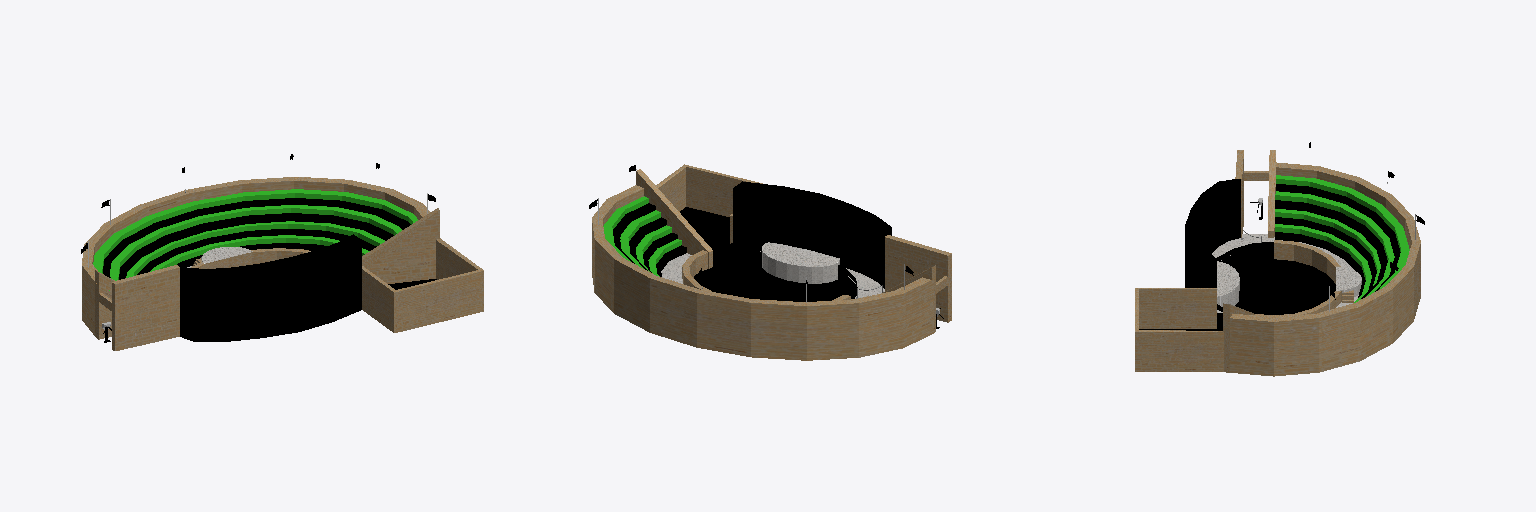
3 renders of one model, left to right at view 1: azimuth 30°, elevation 25°; view 2: azimuth 150°, elevation 25°; view 3: azimuth 270°, elevation 25°, orthographic.
Visible parts, largest first — view 1: pPipe2, pasted__pasted__pasted__pasted__pasted__pasted__pPipe1 pasted__p, pasted__pasted__pasted__pPipe1 pasted__pasted__group1 pasted__gr, group8 pasted__pasted__pasted__pasted__pPipe1 pasted__pasted__pa, pasted__pasted__pasted__pCube2 pasted__pasted__group9 pasted__gr, pasted__pCube5 group21, pasted__pCube2 group9, group8 pasted__group7 pasted__pasted__pasted__pasted__pasted__pP, group7 pasted__pasted__pasted__pasted__pPipe1 pasted__pasted__pa, pCube5, pasted__pCube5 group22, pPipe1 (+2 smaller); view 2: pasted__pasted__pasted__pasted__pasted__pasted__pPipe1 pasted__p, pPipe2, pCylinder1, pasted__pasted__pasted__pCube2 pasted__pasted__group9 pasted__gr, pCylinder2, pasted__pCube5 group21, pasted__pCube2 group9, pCube1, pasted__pasted__pasted__pPipe1 pasted__pasted__group1 pasted__gr, group8 pasted__pasted__pasted__pasted__pPipe1 pasted__pasted__pa, pasted__pCube5 group22, pPipe1 (+1 smaller); view 3: pasted__pasted__pasted__pasted__pasted__pasted__pPipe1 pasted__p, pCylinder1, pPipe2, pasted__pCube5 group22, pasted__pasted__pasted__pPipe1 pasted__pasted__group1 pasted__gr, pCube5, group8 pasted__pasted__pasted__pasted__pPipe1 pasted__pasted__pa, group8 pasted__group7 pasted__pasted__pasted__pasted__pasted__pP, pPipe1, group7 pasted__pasted__pasted__pasted__pPipe1 pasted__pasted__pa, pCylinder2, pasted__pasted__pPipe1 pasted__group1 group2 (+3 smaller).
Boxes of the visible parts, x1,y1,x2,y2 form: pPipe2: [178, 234, 361, 341]; pasted__pasted__pasted__pasted__pasted__pasted__pPipe1 pasted__p: [82, 177, 429, 335]; pasted__pasted__pasted__pPipe1 pasted__pasted__group1 pasted__gr: [119, 213, 393, 279]; group8 pasted__pasted__pasted__pasted__pPipe1 pasted__pasted__pa: [103, 198, 410, 280]; pasted__pasted__pasted__pCube2 pasted__pasted__group9 pasted__gr: [112, 265, 179, 350]; pasted__pCube5 group21: [395, 270, 481, 331]; pasted__pCube2 group9: [362, 208, 439, 283]; group8 pasted__group7 pasted__pasted__pasted__pasted__pasted__pP: [93, 189, 417, 290]; group7 pasted__pasted__pasted__pasted__pPipe1 pasted__pasted__pa: [126, 221, 384, 277]; pCube5: [362, 266, 397, 332]; pasted__pCube5 group22: [436, 238, 483, 311]; pPipe1: [191, 248, 310, 268]; pasted__pasted__pasted__pasted__pasted__pasted__pPipe1 pasted__p: [592, 185, 933, 360]; pPipe2: [733, 181, 891, 288]; pCylinder1: [694, 246, 857, 301]; pasted__pasted__pasted__pCube2 pasted__pasted__group9 pasted__gr: [885, 235, 951, 322]; pCylinder2: [762, 242, 839, 283]; pasted__pCube5 group21: [685, 165, 762, 216]; pasted__pCube2 group9: [636, 169, 712, 268]; pCube1: [680, 207, 733, 266]; pasted__pasted__pasted__pPipe1 pasted__pasted__group1 pasted__gr: [629, 217, 681, 276]; group8 pasted__pasted__pasted__pasted__pPipe1 pasted__pasted__pa: [613, 203, 660, 268]; pasted__pCube5 group22: [656, 164, 686, 211]; pPipe1: [682, 250, 850, 300]; pasted__pasted__pasted__pasted__pasted__pasted__pPipe1 pasted__p: [1230, 162, 1420, 376]; pCylinder1: [1216, 242, 1335, 314]; pPipe2: [1185, 179, 1240, 287]; pasted__pCube5 group22: [1135, 330, 1223, 371]; pasted__pasted__pasted__pPipe1 pasted__pasted__group1 pasted__gr: [1275, 200, 1387, 302]; pCube5: [1135, 288, 1216, 328]; group8 pasted__pasted__pasted__pasted__pPipe1 pasted__pasted__pa: [1275, 184, 1400, 301]; group8 pasted__group7 pasted__pasted__pasted__pasted__pasted__pP: [1276, 175, 1409, 289]; pPipe1: [1254, 240, 1341, 316]; group7 pasted__pasted__pasted__pasted__pPipe1 pasted__pasted__pa: [1275, 209, 1380, 285]; pCylinder2: [1217, 261, 1239, 306]; pasted__pasted__pPipe1 pasted__group1 group2: [1275, 232, 1365, 297].
Bounding box in the file's own units: 41.07 × 9.67 × 31.39.
Materials: 41 (5 with a texture image).